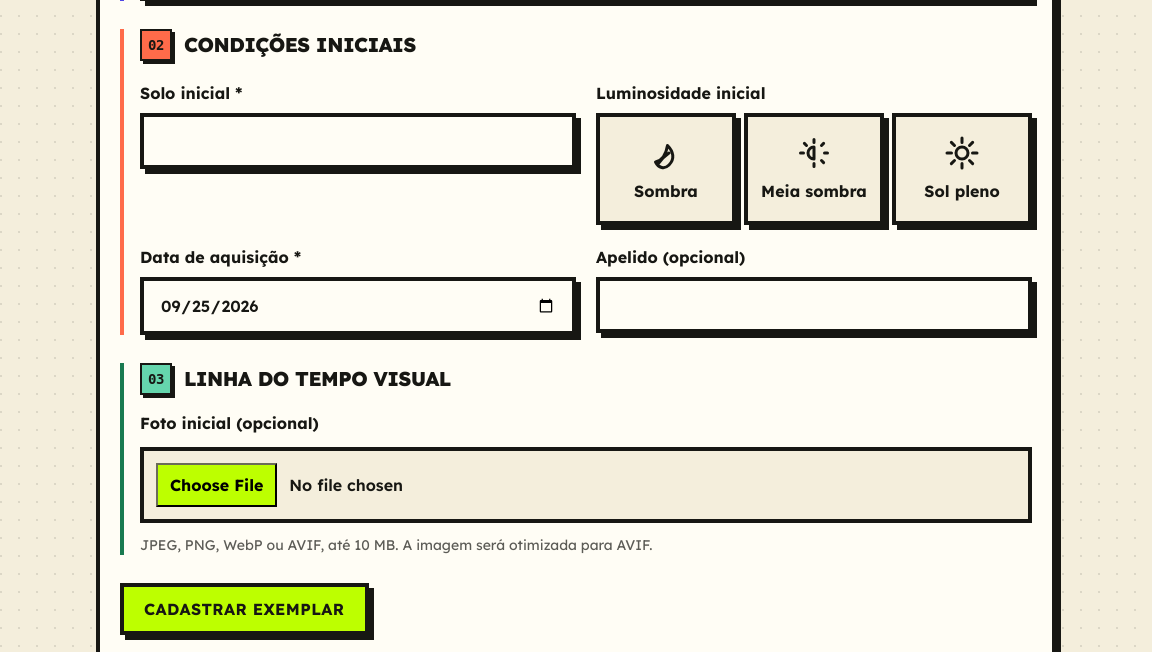
it: SpecimenCreatePage › shows contextual required errors without submitting
The width and height of the screenshot is (1152, 652).
(page scrolled)
Step 1. Click the button "Cadastrar exemplar" → click(244, 609), box [120,583,368,635]
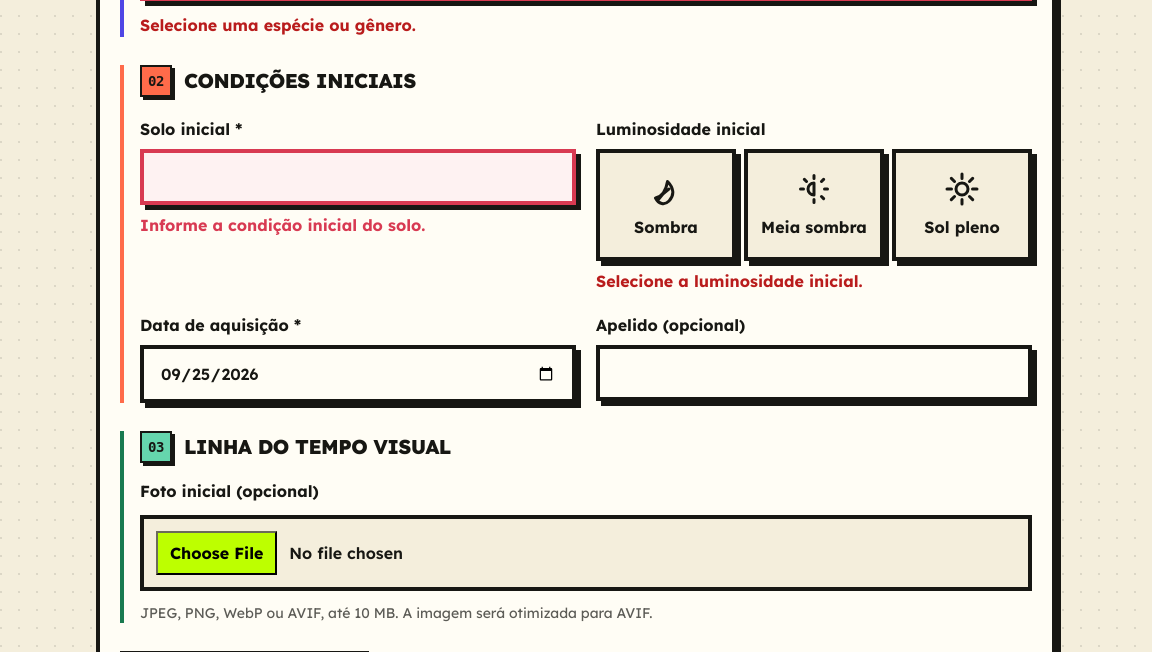
Expected: the text "Selecione uma espécie ou gênero." is shown, [140,15,416,35]
Expected: the text "Informe a condição inicial do solo." is shown, [140,215,425,235]
